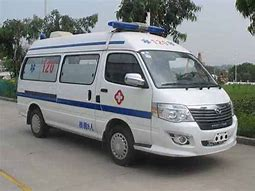specialcar: (16, 26, 242, 170)
